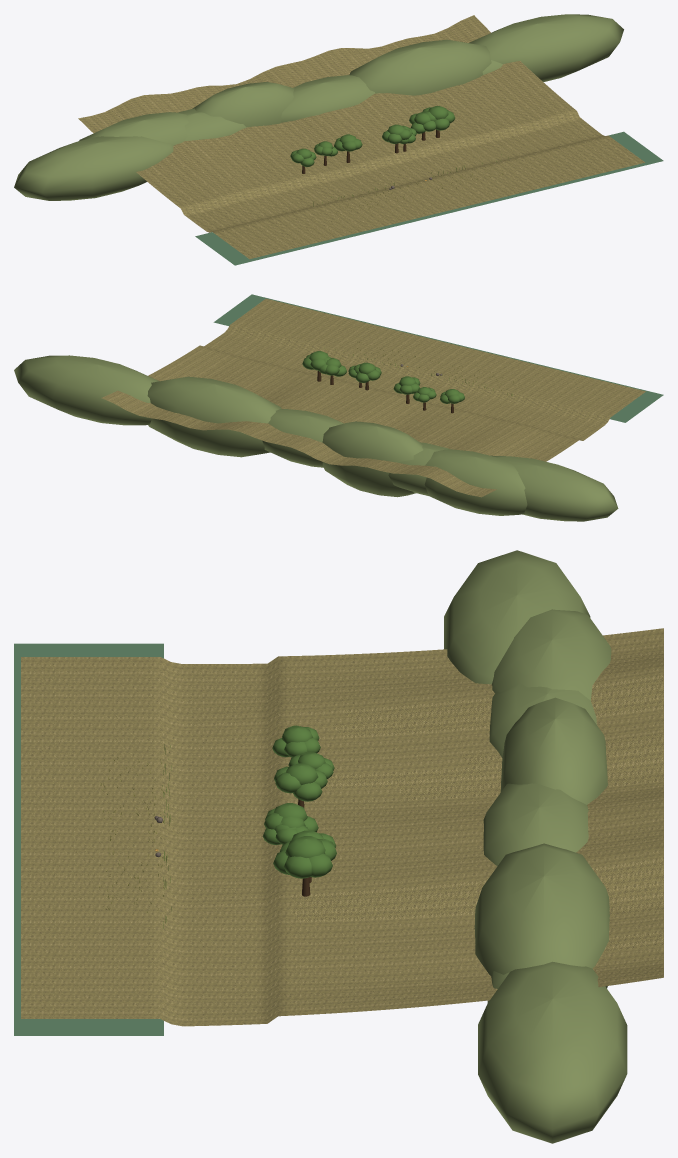
Rendered from mare.glb.
3 views of the same model, one above another, from view 1: azimuth 30°, elevation 25°; view 2: azimuth 150°, elevation 25°; view 3: azimuth 270°, elevation 25° (orthographic). The views are drawn at different scales.
Parts seen in each view (by area): view 1: sol, decor, eau; view 2: sol, decor, eau; view 3: sol, decor, eau.
Part boxes in pixels (x1,y1,x2,y2): sol: (78,15,644,259); decor: (14,14,623,214); eau: (195,131,663,265); sol: (101,298,645,497); decor: (14,341,618,521); eau: (213,294,663,422); sol: (21,628,663,1026); decor: (99,550,627,1143); eau: (14,643,163,1035).
Size of the model in its own units: 188 by 19.8 by 91.
9 materials, 1 textured.
